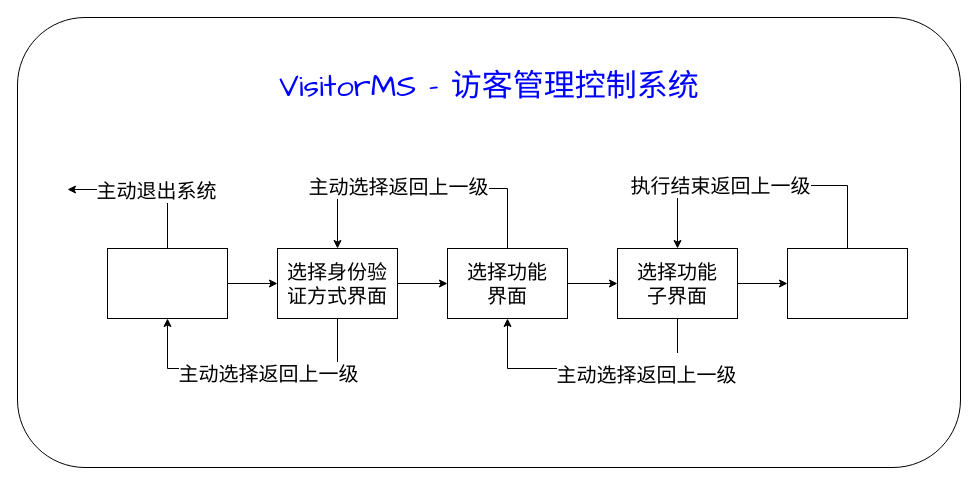
Some shapes in this 978 by 485 pixel diagram are drawn without their labels. Here are the shapes that lost their labels. From the top down, the centre of each, then its label:
pixel 167 283: 选择登录 身份界面
pixel 847 283: 功能执行 结果界面
